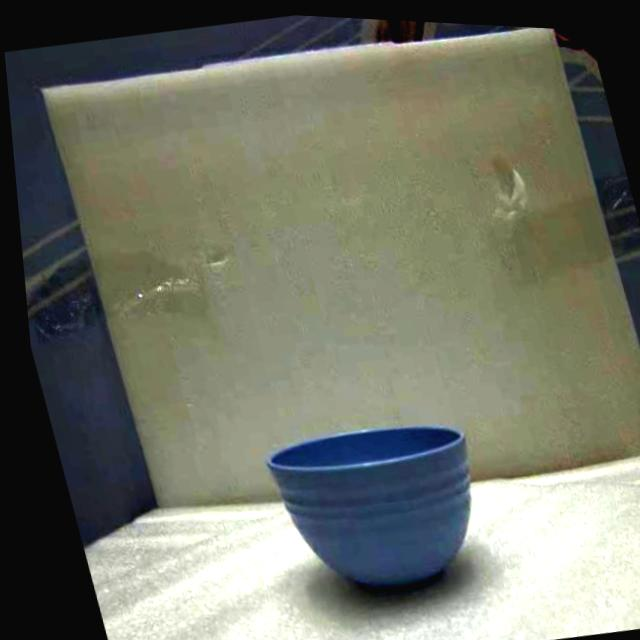Bowl: (267, 427, 469, 590)
